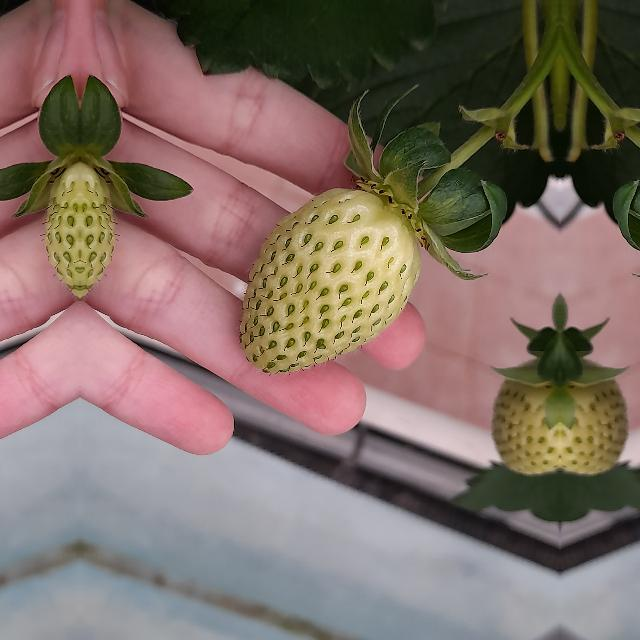Health_25: (240, 188, 420, 374)
